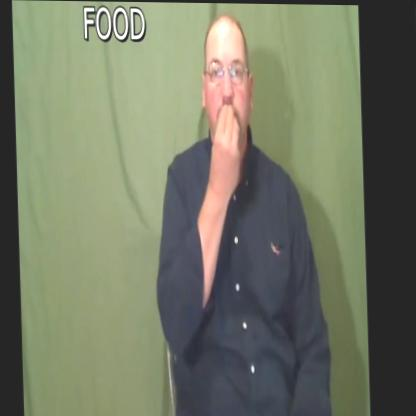Food: (178, 8, 279, 222)
